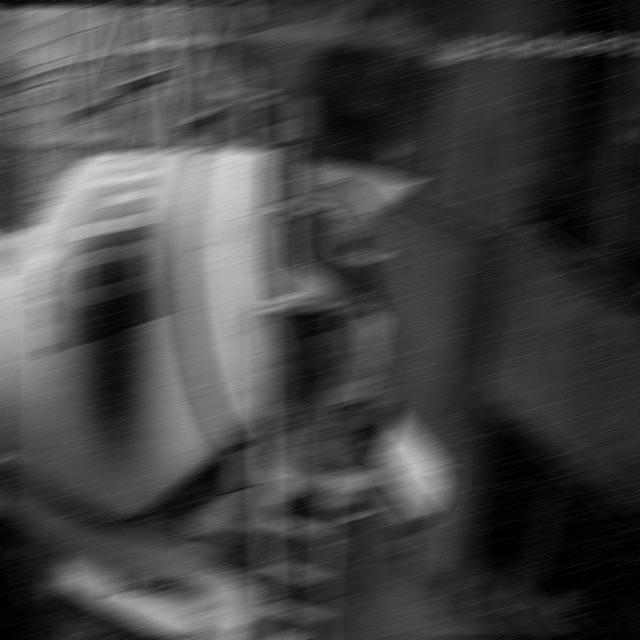cement_mixer_truck: (0, 140, 429, 639)
